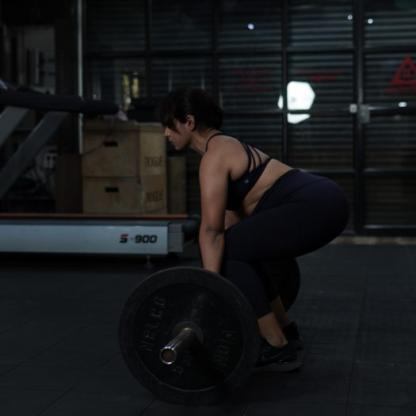barbell: (118, 240, 304, 406)
